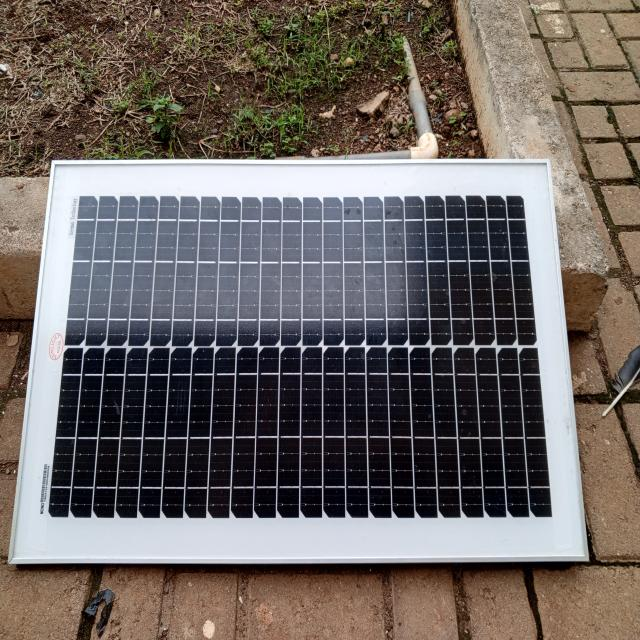Clean: (67, 187, 551, 537)
